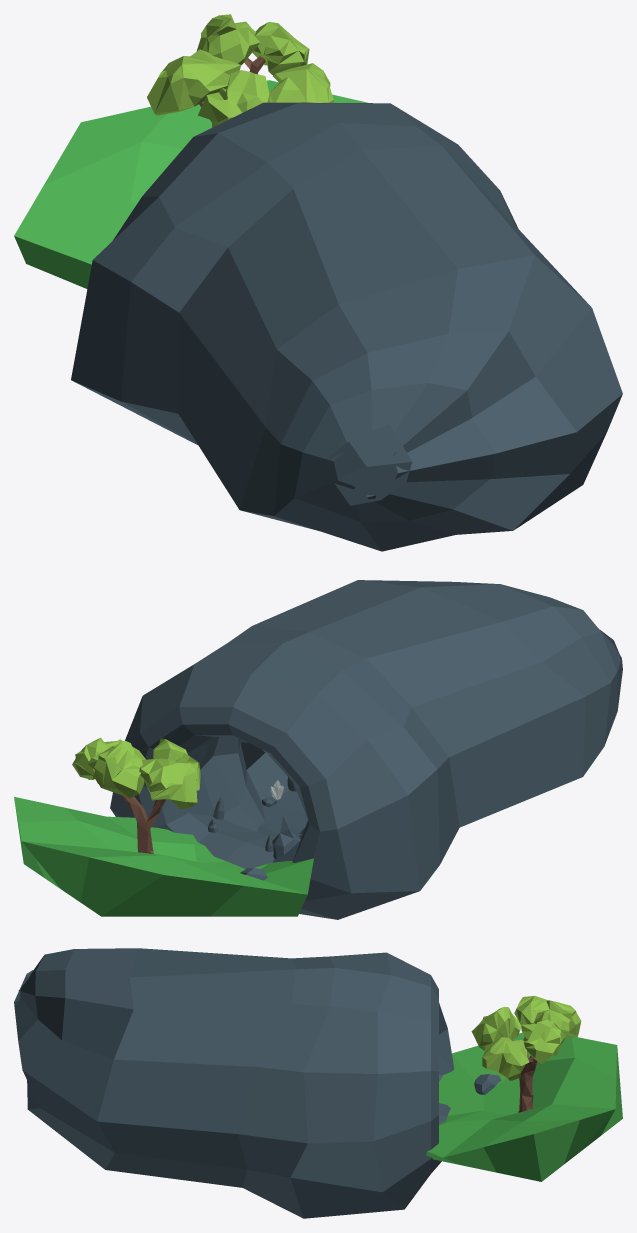
File: building-cave.glb
3 views of the same model, one above another, from view 1: azimuth 30°, elevation 25°; view 2: azimuth 150°, elevation 25°; view 3: azimuth 270°, elevation 25° (orthographic). The views are drawn at different scales.
Visible parts, largest first — view 1: group96187052; view 2: group96187052; view 3: group96187052.
Part boxes in pixels (x1,y1,x2,y2): group96187052: [14, 14, 622, 551]; group96187052: [14, 580, 622, 919]; group96187052: [14, 948, 622, 1218].
Bounding box in the file's own units: 3.21 × 2.08 × 5.5.
